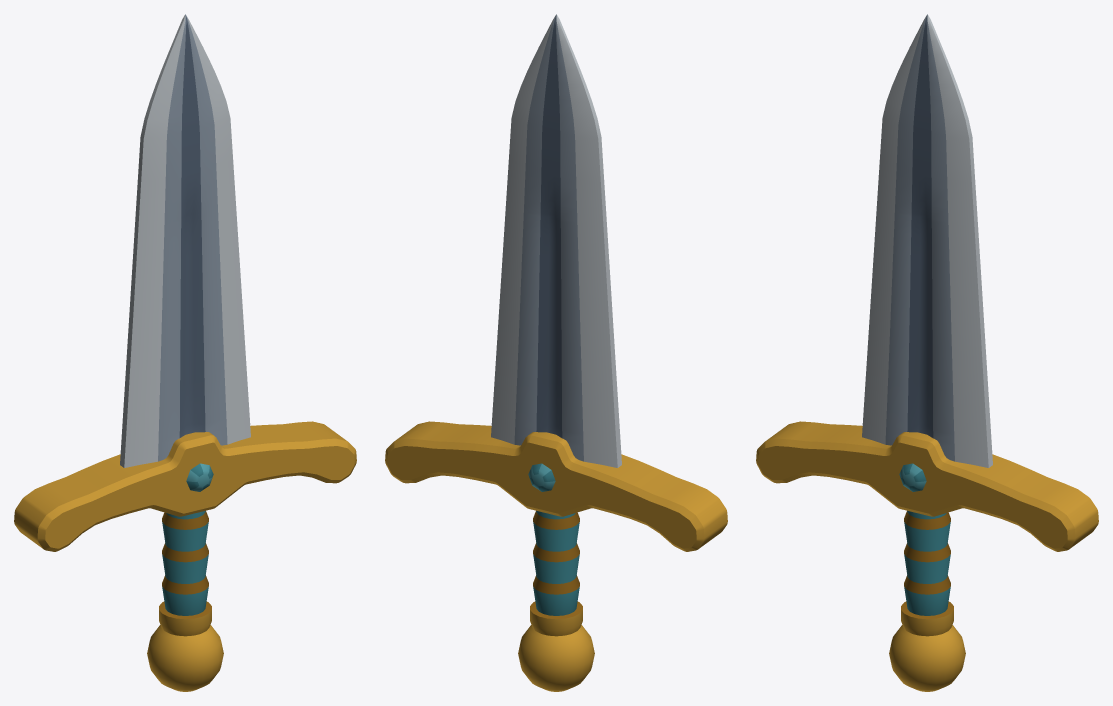
The model's file is Broadsword_18.glb.
3 renders of one model, left to right at view 1: azimuth 30°, elevation 25°; view 2: azimuth 150°, elevation 25°; view 3: azimuth 330°, elevation 25°, orthographic.
Visible parts, largest first — view 1: Broadsword_18; view 2: Broadsword_18; view 3: Broadsword_18.
Part boxes in pixels (left/top/right/bottom): Broadsword_18: left=14, top=14, right=356, bottom=691; Broadsword_18: left=385, top=14, right=727, bottom=691; Broadsword_18: left=756, top=14, right=1098, bottom=691.
Size of the model in its own units: 2.95 by 5.94 by 0.614.
